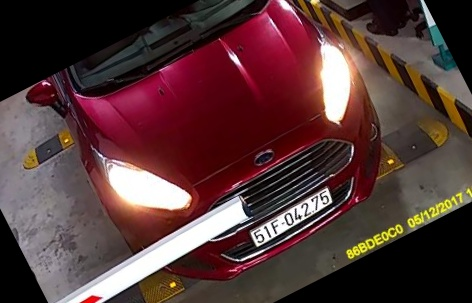plate: (247, 185, 348, 246)
